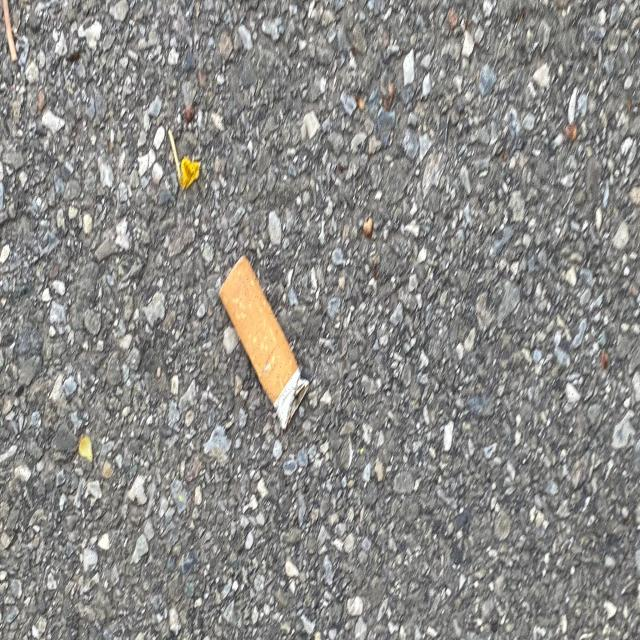other waste: (217, 250, 311, 434)
